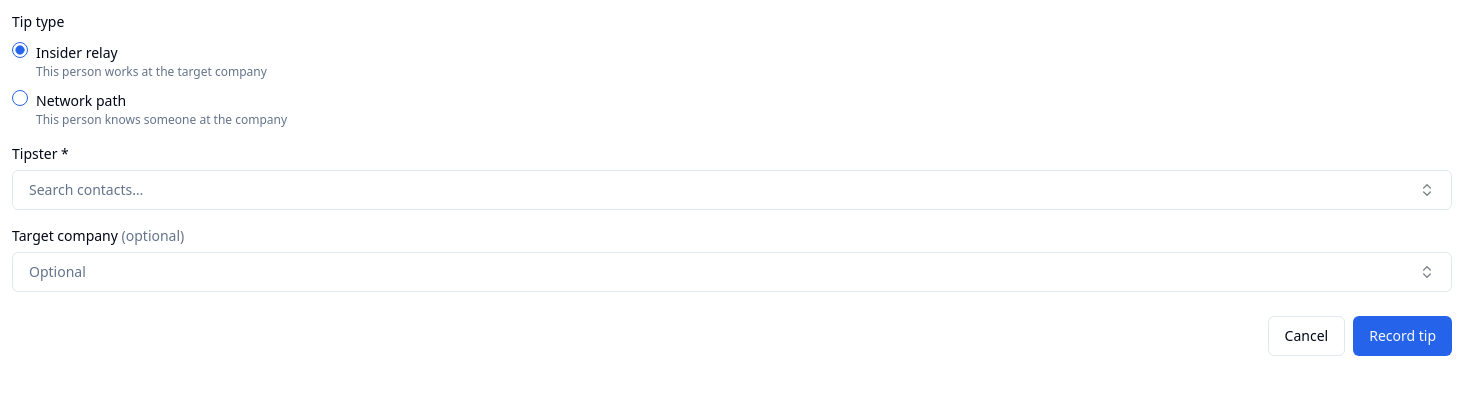
Test: TipCaptureForm — validation › shows tipsterRequired error when submitted without tipster
This screenshot has width=1464, height=401.
Step 1. Click the button "Record tip" → (1403, 336), box [1353,316,1452,356]
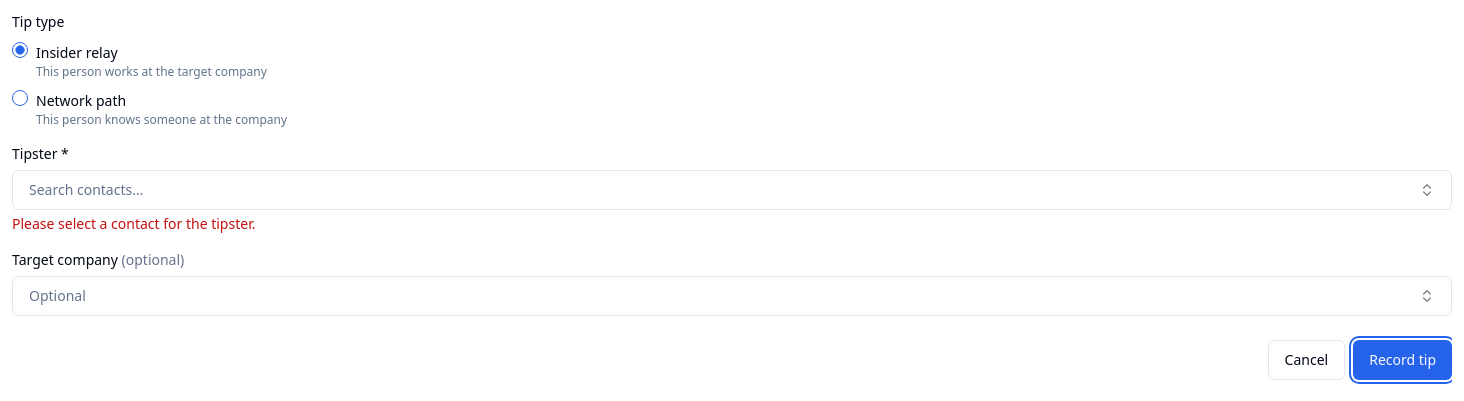
Expected: the text "Please select a contact for the tipster." is shown, [12,214,255,233]
